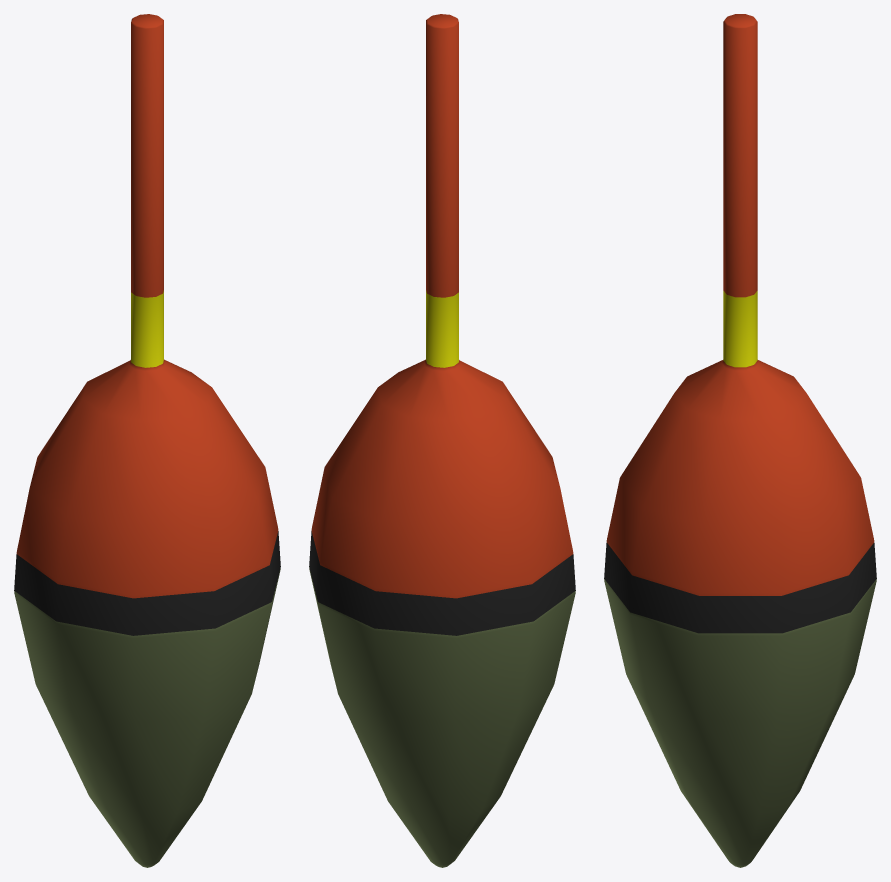
File: Fishing_Floater.fbx
3 views of the same model, side by side, from view 1: azimuth 30°, elevation 25°; view 2: azimuth 150°, elevation 25°; view 3: azimuth 270°, elevation 25° (orthographic).
Visible parts, largest first — view 1: Circle; view 2: Circle; view 3: Circle.
Boxes of the visible parts, x1,y1,x2,y2 form: Circle: (14,14,280,867); Circle: (309,14,575,867); Circle: (604,14,876,867).
Size of the model in its own units: 248 by 894 by 261.
